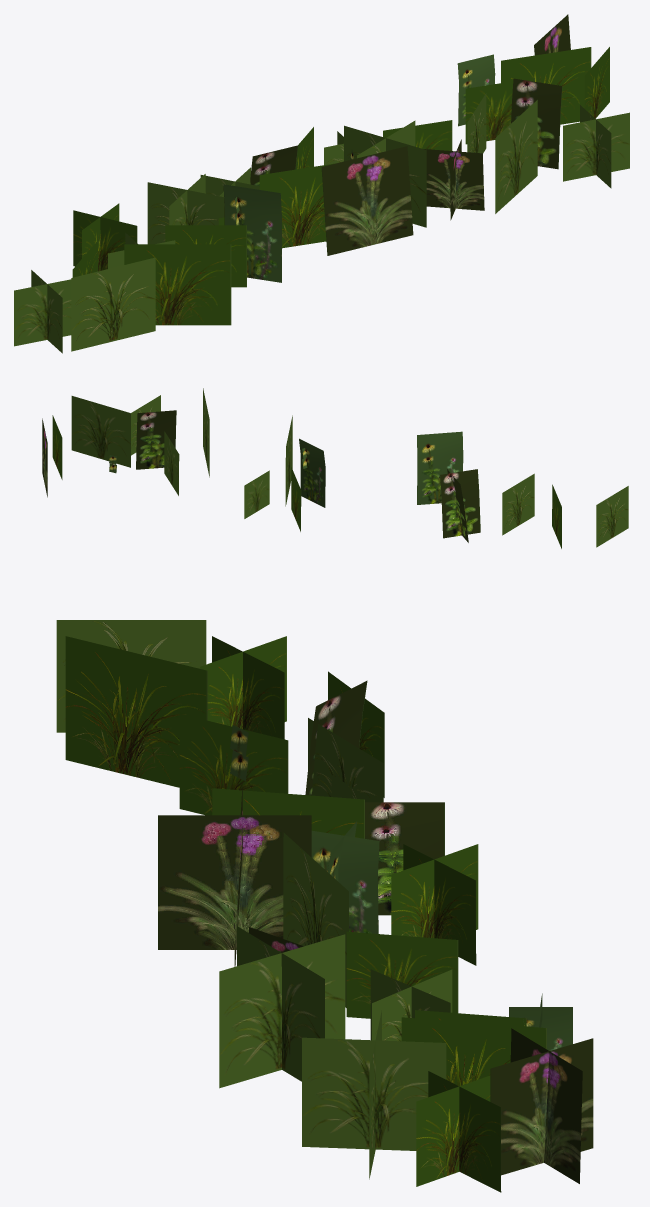
The model's file is grass01.glb.
3 renders of one model, top to bottom at view 1: azimuth 30°, elevation 25°; view 2: azimuth 150°, elevation 25°; view 3: azimuth 270°, elevation 25°, orthographic. The views are drawn at different scales.
Parts seen in each view (by area): view 1: grass01; view 2: grass01; view 3: grass01.
Part boxes in pixels (x1,y1,x2,y2): grass01: [14, 14, 629, 353]; grass01: [42, 388, 628, 548]; grass01: [56, 620, 593, 1192].
Bounding box in the file's own units: 4.94 × 0.6172 × 2.15.
Materials: 1 (1 with a texture image).
